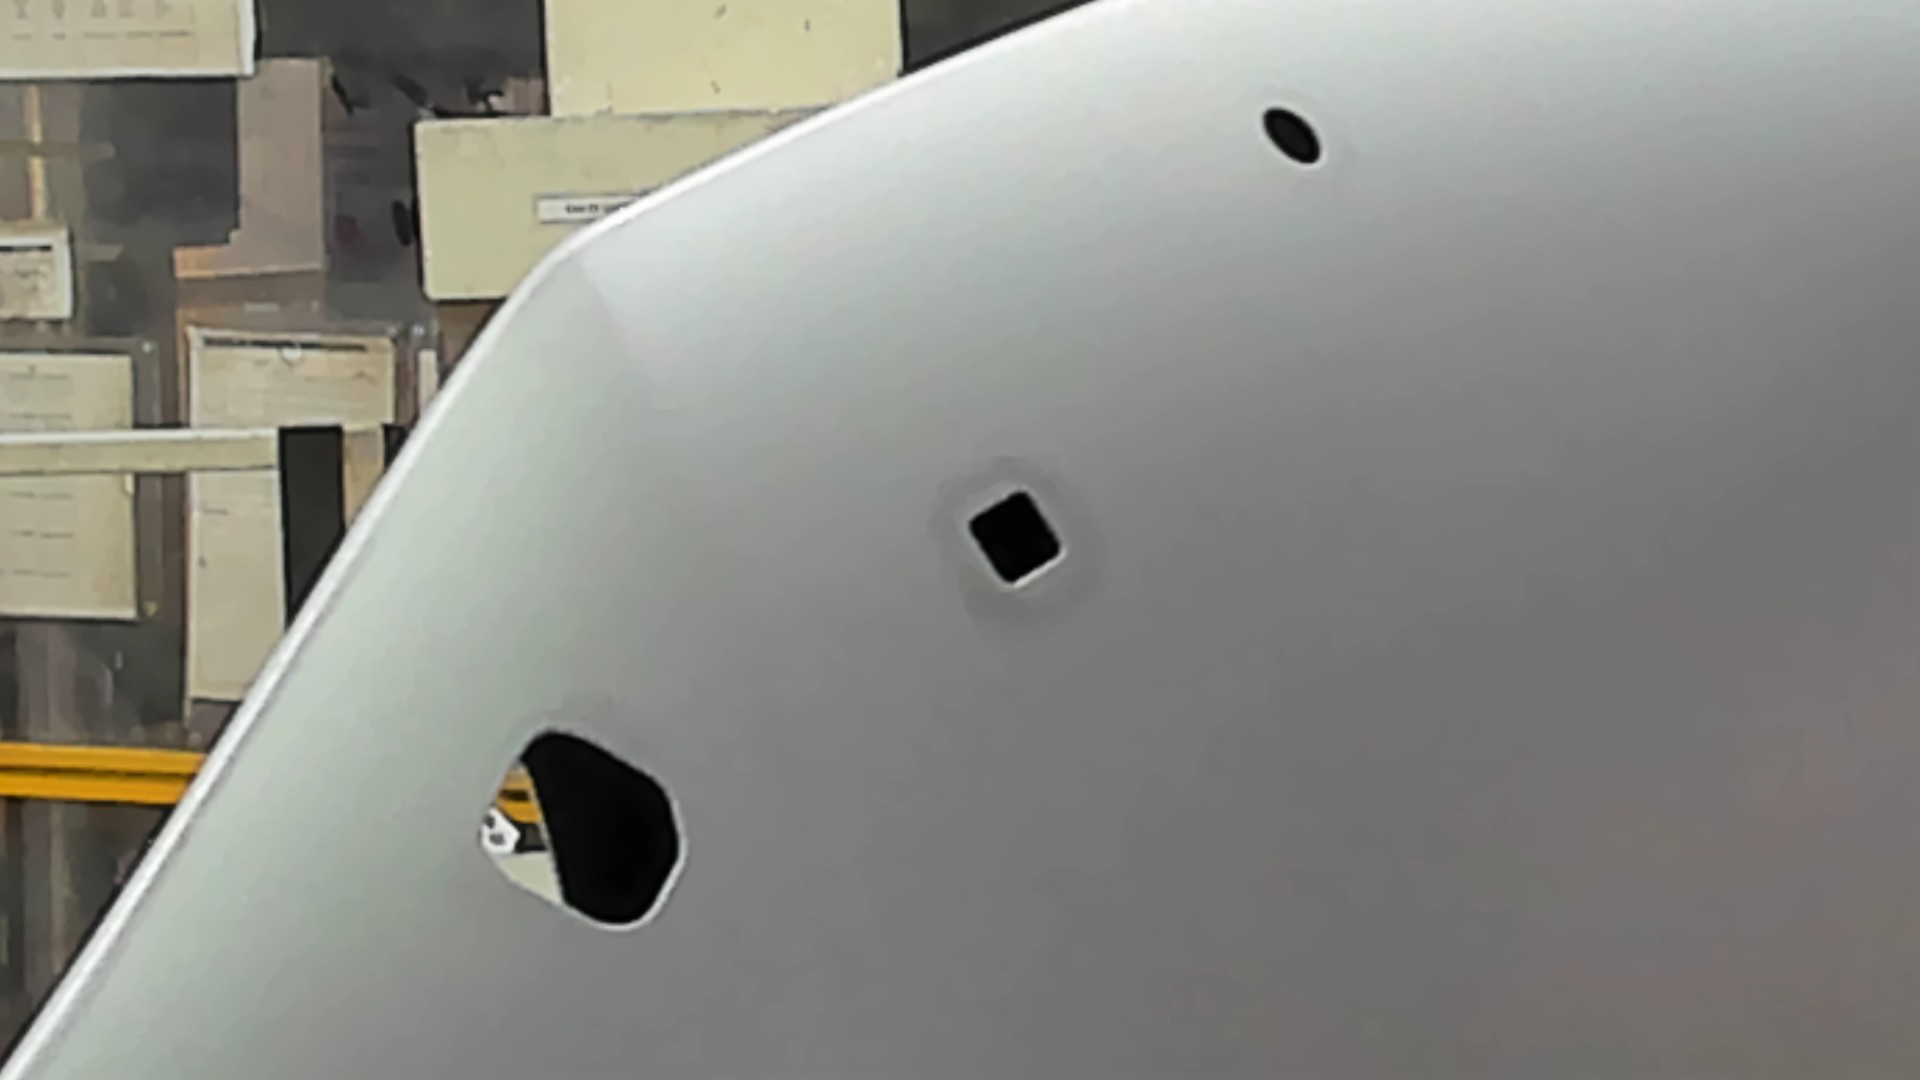capo: (1077, 178, 1920, 1080)
chico: (1261, 100, 1327, 170)
grande: (477, 723, 694, 940)
mediano: (959, 485, 1069, 595)
